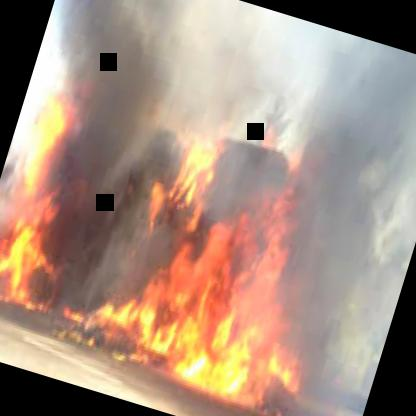fire: (0, 99, 345, 385)
